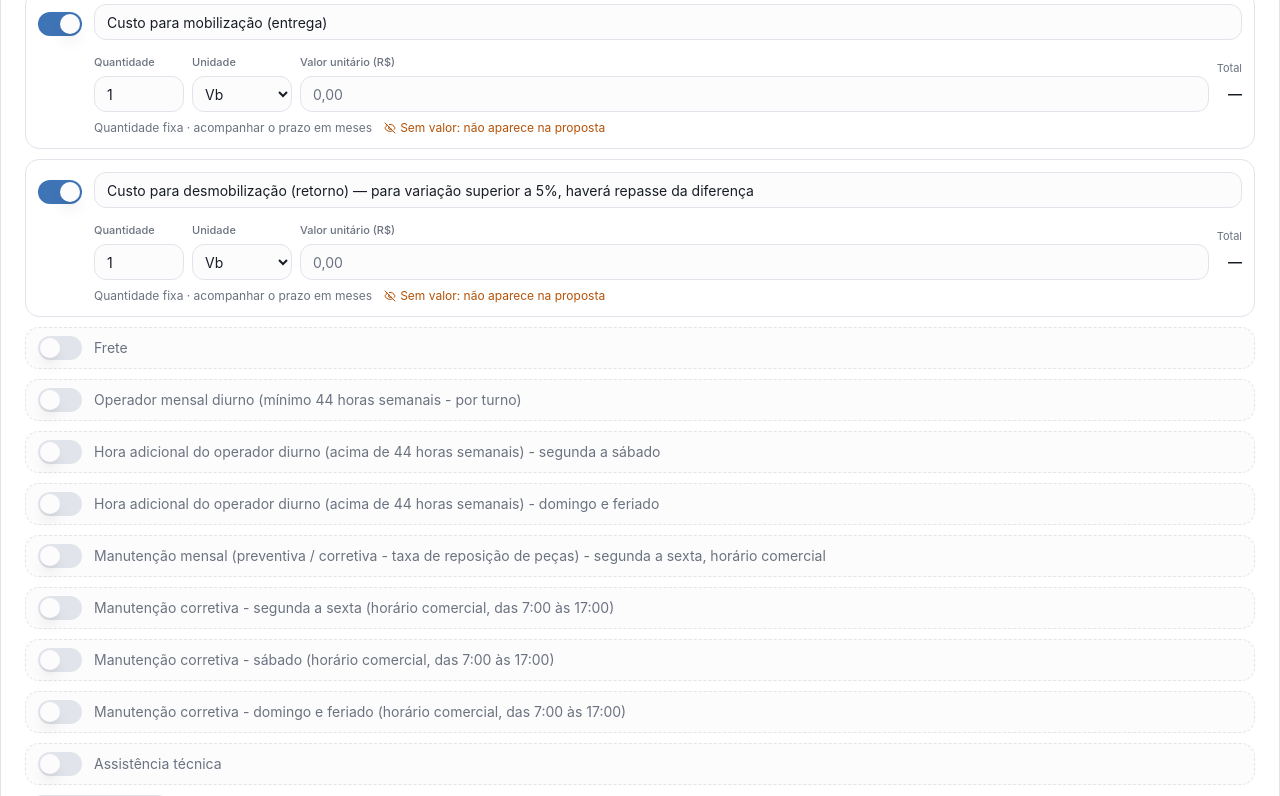
Test case: etapa Preços › operador, seguro, manutenção e assistência técnica são linhas próprias, com valor próprio
(page scrolled)
What coordinates should you click on to do the following:
click the switch named "Incluir na proposta: Operador mensal diurno (mínimo 44 horas"
I would click on:
 (60, 400)
Its box is [38, 388, 82, 412].
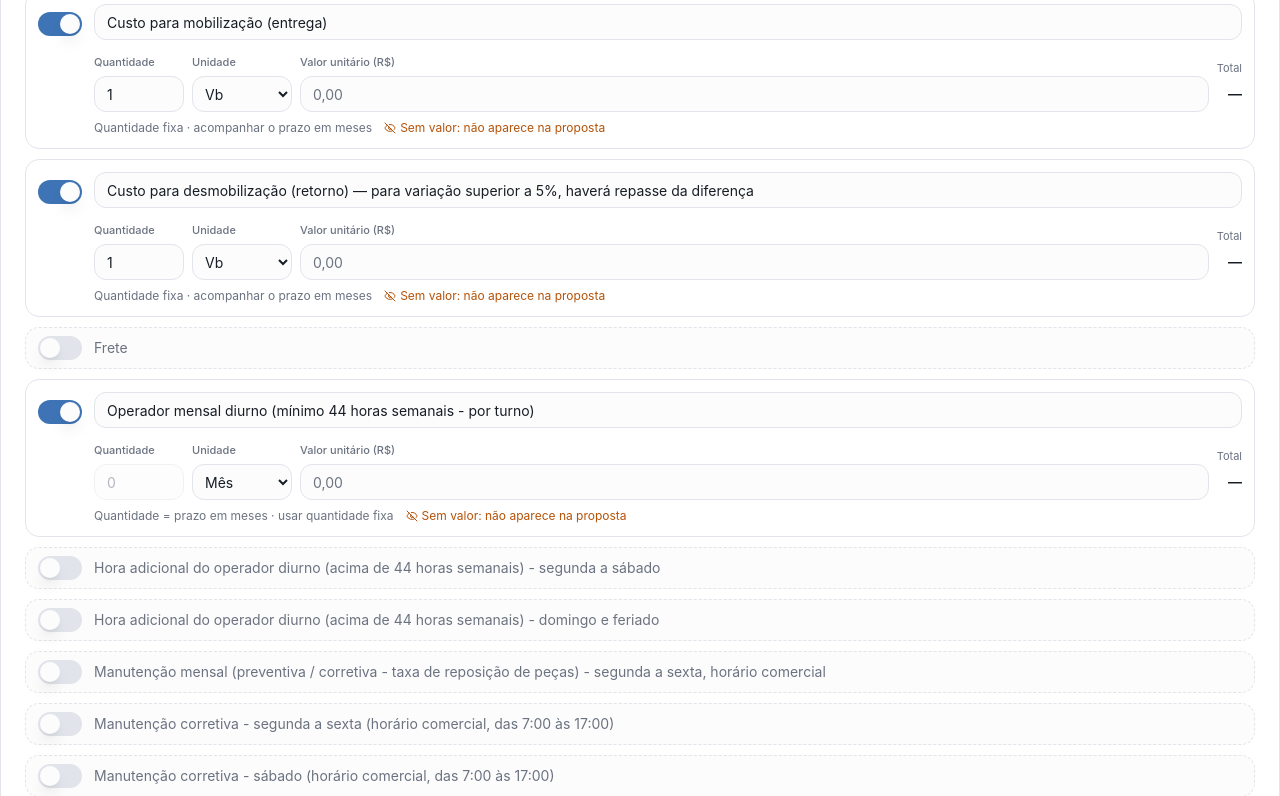
Check: the number field named "Valor unitário" is shown, box [300, 464, 1209, 500]
